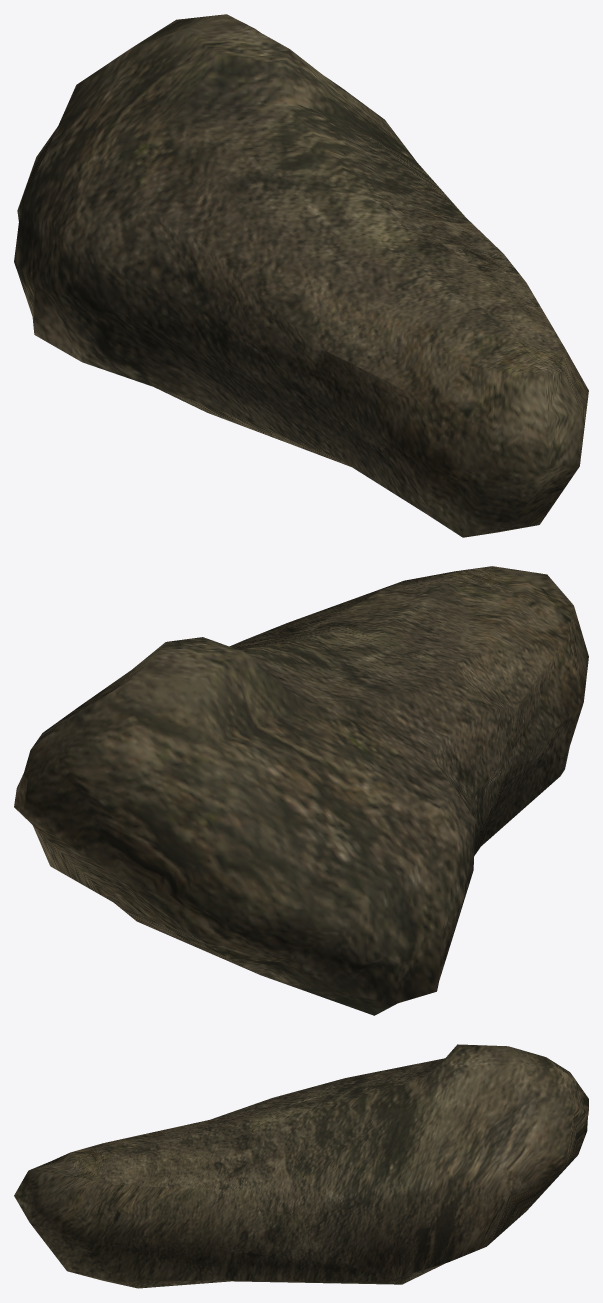
File: LCRG_Rock02.fbx
3 views of the same model, one above another, from view 1: azimuth 30°, elevation 25°; view 2: azimuth 150°, elevation 25°; view 3: azimuth 270°, elevation 25° (orthographic). The views are drawn at different scales.
Visible parts, largest first — view 1: LCRG_Rock02; view 2: LCRG_Rock02; view 3: LCRG_Rock02.
Boxes of the visible parts, box(x1,y1,x2,y2) form: LCRG_Rock02: box(14, 14, 588, 537); LCRG_Rock02: box(14, 566, 588, 1015); LCRG_Rock02: box(14, 1044, 588, 1288).
Bounding box in the file's own units: 3.31 × 2.84 × 6.61.
